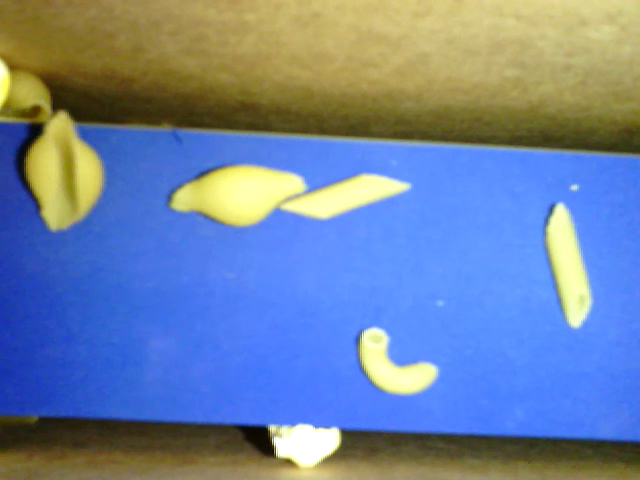elbow: (357, 324, 440, 399)
penne: (537, 198, 595, 332), (276, 172, 415, 224)
shell: (22, 108, 105, 231), (169, 159, 308, 227), (1, 67, 56, 124)
